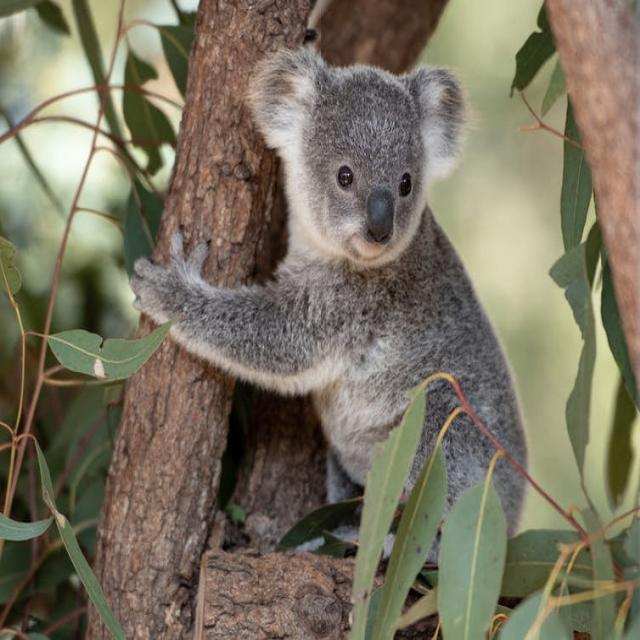koala: (131, 44, 526, 534)
